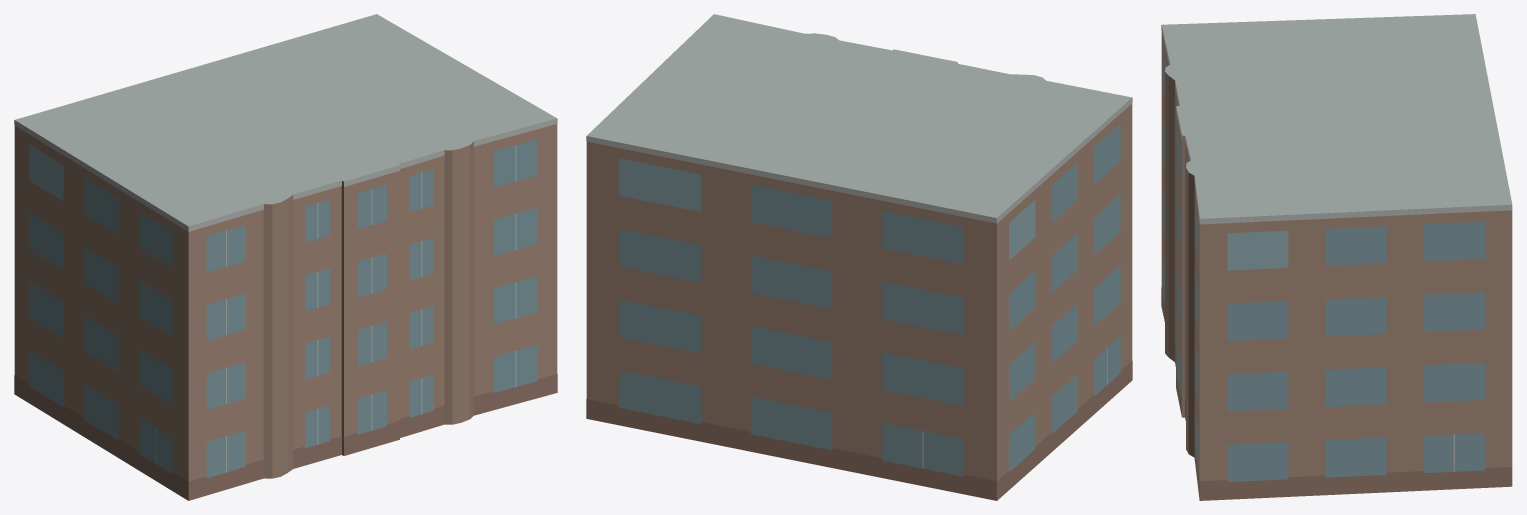
Rendered from survey-upis-32777991.glb.
3 views of the same model, side by side, from view 1: azimuth 30°, elevation 25°; view 2: azimuth 150°, elevation 25°; view 3: azimuth 270°, elevation 25° (orthographic). The views are drawn at different scales.
Visible parts, largest first — view 1: survey-upis-32777991.tmp; view 2: survey-upis-32777991.tmp; view 3: survey-upis-32777991.tmp.
Boxes of the visible parts, box(x1,y1,x2,y2) form: survey-upis-32777991.tmp: box(14, 14, 557, 500); survey-upis-32777991.tmp: box(586, 14, 1132, 500); survey-upis-32777991.tmp: box(1161, 14, 1512, 500).
Bounding box in the file's own units: 19.19 × 12.3 × 13.88.
